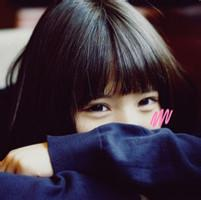face: (72, 55, 173, 188)
